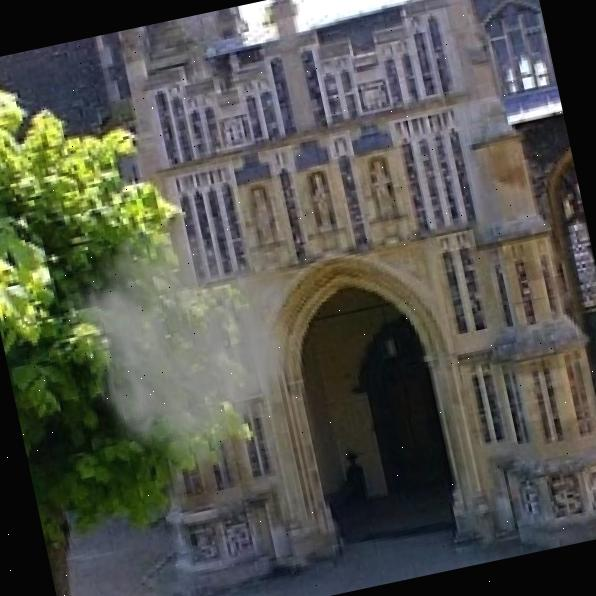smoke: (52, 184, 343, 511)
